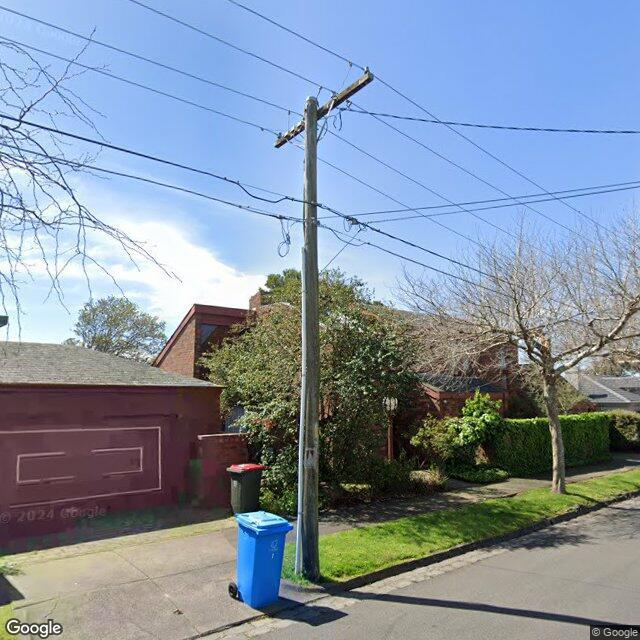crossarm: (274, 72, 374, 148)
timber-pole: (302, 96, 320, 576)
